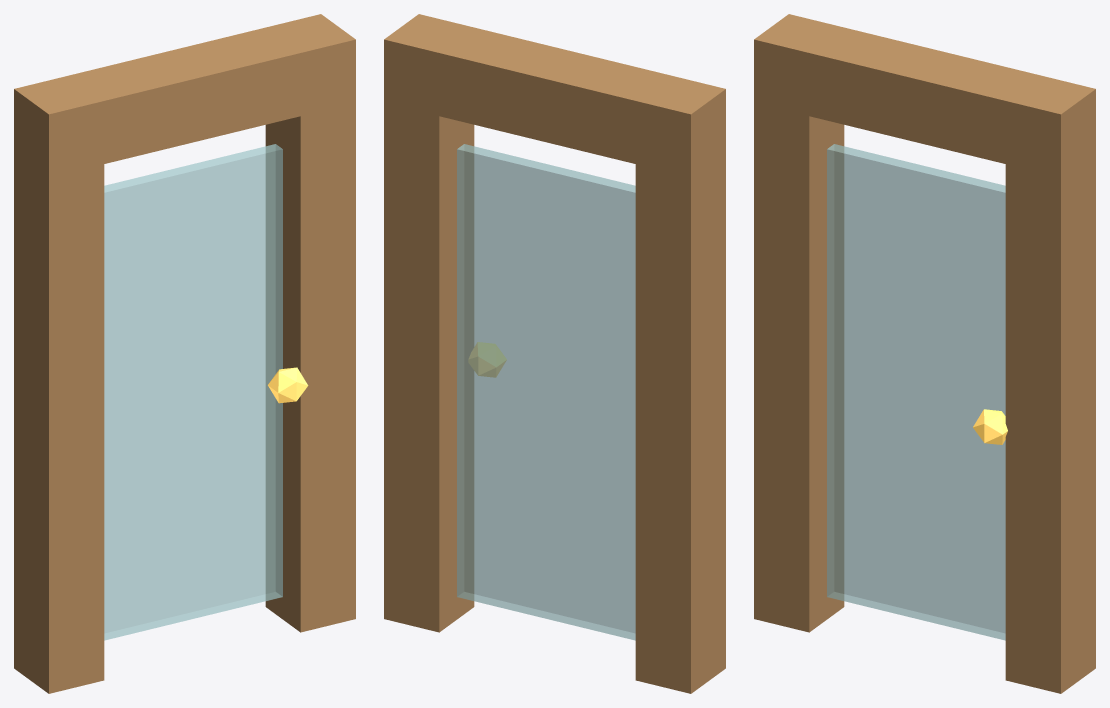
File: door.glb
3 views of the same model, side by side, from view 1: azimuth 30°, elevation 25°; view 2: azimuth 150°, elevation 25°; view 3: azimuth 330°, elevation 25° (orthographic).
Size of the model in its own units: 1.22 by 2.2 by 0.2995.
